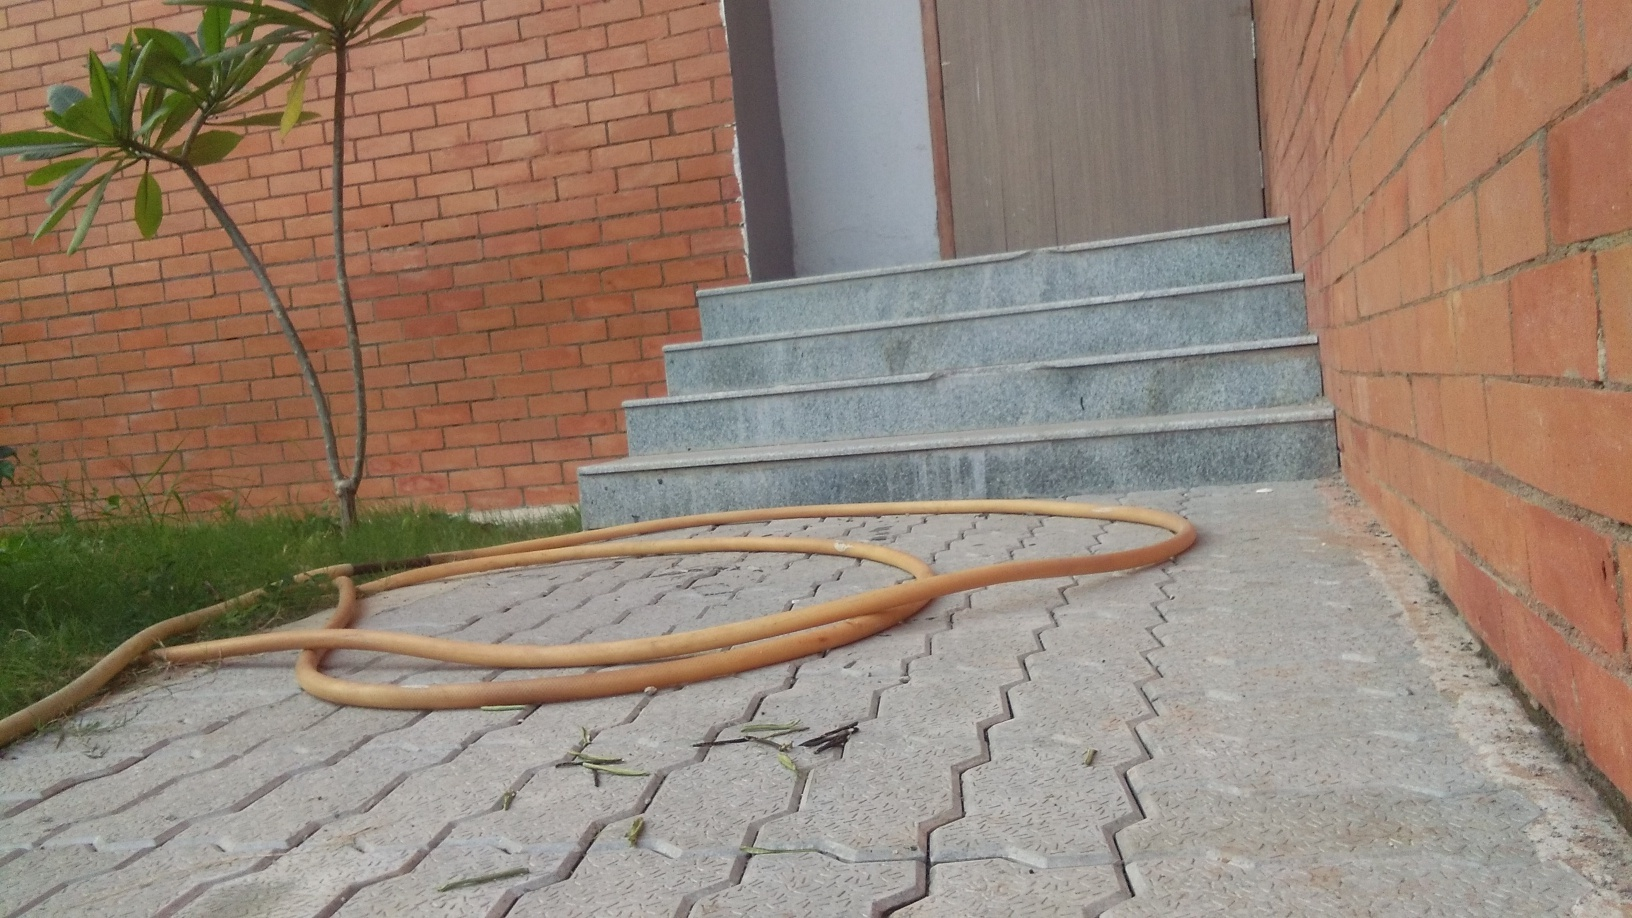stairs_up: (581, 261, 1353, 506)
